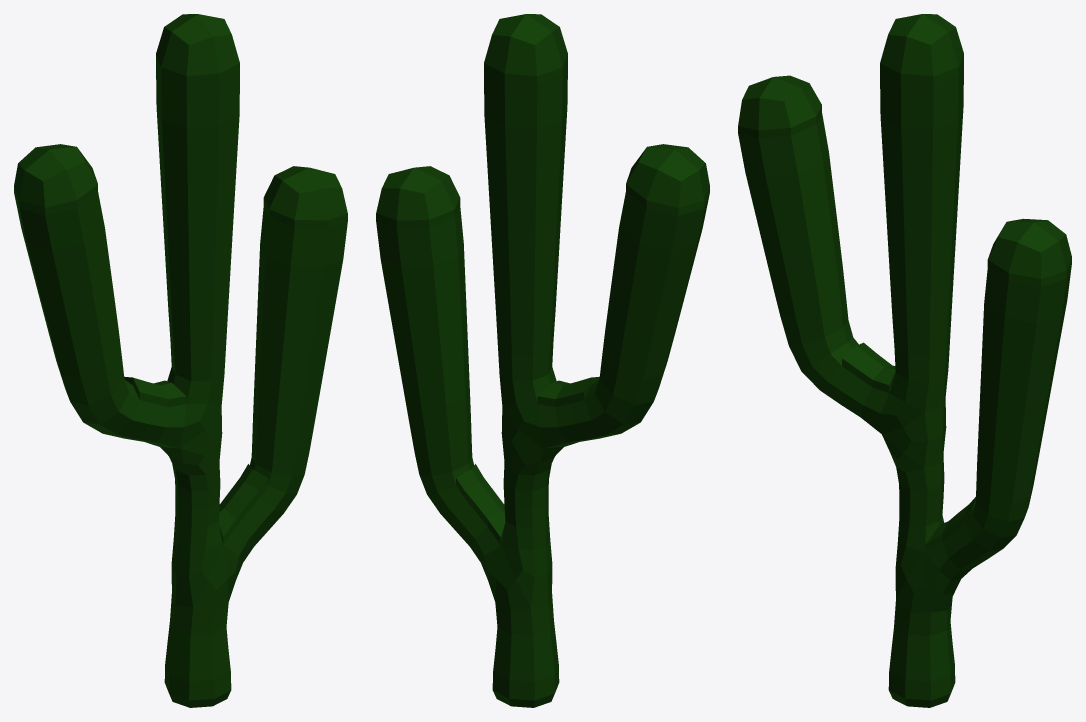
Rendered from Cactus_Winter.glb.
The picture shows the model from 3 angles, left to right: view 1: azimuth 30°, elevation 25°; view 2: azimuth 150°, elevation 25°; view 3: azimuth 330°, elevation 25°; orthographic projection.
Visible parts, largest first — view 1: Cactus_Winter.001; view 2: Cactus_Winter.001; view 3: Cactus_Winter.001.
Boxes of the visible parts, box(x1,y1,x2,y2) form: Cactus_Winter.001: box(14, 14, 347, 707); Cactus_Winter.001: box(376, 14, 709, 707); Cactus_Winter.001: box(738, 14, 1071, 707).
Bounding box in the file's own units: 1.59 × 3.23 × 0.3662.
